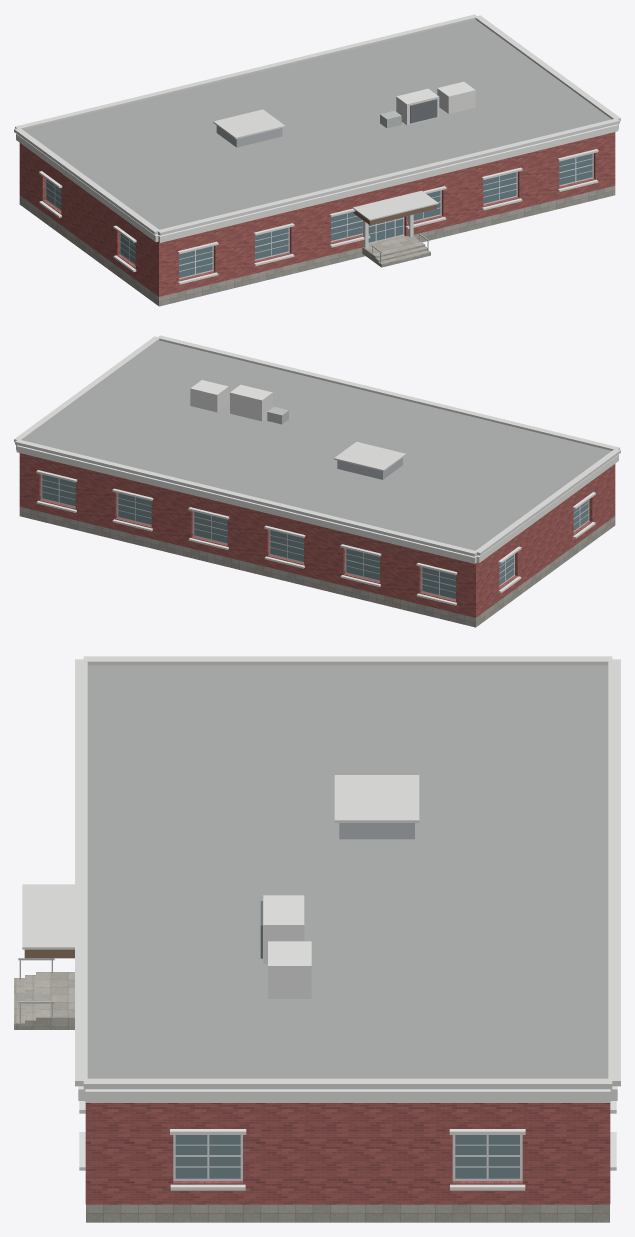
The picture shows the model from 3 angles, top to bottom: view 1: azimuth 30°, elevation 25°; view 2: azimuth 150°, elevation 25°; view 3: azimuth 270°, elevation 25°; orthographic projection. The views are drawn at different scales.
Visible parts, largest first — view 1: animal__roof, animal__redbrick, animal__cap, animal__stone, animal__band, animal__glass, animal__sill, animal__frame, animal__panel, animal__stair-front, animal__sideglass, animal__threshold-front (+4 smaller); view 2: animal__roof, animal__redbrick, animal__cap, animal__stone, animal__sideglass, animal__band, animal__sill, animal__panel, animal__frame, animal__metalroof; view 3: animal__roof, animal__redbrick, animal__cap, animal__stone, animal__band, animal__sideglass, animal__panel, animal__sill, animal__frame, animal__stair-front, animal__threshold-front, animal__metalroof.
Part boxes in pixels (box(x1,y1,x2,y2)): animal__roof: box(23, 19, 611, 229); animal__redbrick: box(19, 132, 615, 296); animal__cap: box(14, 14, 620, 235); animal__stone: box(19, 186, 615, 306); animal__band: box(16, 124, 618, 248); animal__glass: box(179, 153, 592, 277); animal__sill: box(39, 149, 598, 284); animal__frame: box(45, 153, 593, 279); animal__panel: box(396, 81, 475, 125); animal__stair-front: box(372, 242, 430, 267); animal__sideglass: box(46, 179, 135, 264); animal__threshold-front: box(362, 235, 421, 260); animal__roof: box(23, 340, 611, 550); animal__redbrick: box(19, 453, 615, 617); animal__cap: box(14, 335, 620, 556); animal__stone: box(19, 507, 615, 627); animal__sideglass: box(42, 474, 588, 598); animal__band: box(16, 445, 618, 563); animal__sill: box(36, 470, 595, 605); animal__panel: box(190, 380, 272, 421); animal__frame: box(41, 474, 589, 600); animal__metalroof: box(337, 458, 402, 479); animal__roof: box(87, 665, 608, 1078); animal__redbrick: box(85, 1103, 610, 1204); animal__cap: box(22, 656, 620, 1089); animal__stone: box(86, 1204, 609, 1222); animal__band: box(78, 1086, 617, 1102); animal__sideglass: box(175, 1135, 519, 1178); animal__panel: box(263, 895, 311, 998); animal__sill: box(79, 1101, 616, 1190); animal__frame: box(173, 1135, 522, 1180); animal__stair-front: box(14, 972, 47, 1029); animal__threshold-front: box(47, 972, 74, 1029); animal__metalroof: box(339, 823, 414, 839).
Size of the model in its own units: 34.76 by 6.81 by 20.85.
Materials: 14 (2 with a texture image).
